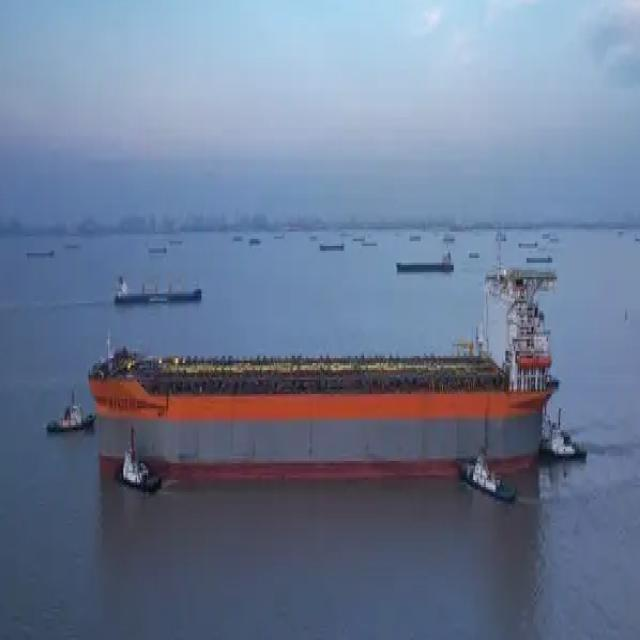cargoship: (90, 254, 551, 496), (105, 265, 206, 314), (394, 254, 459, 276)
fishing boat: (450, 426, 516, 504), (538, 393, 586, 462), (44, 389, 95, 448)
houseboat: (104, 413, 162, 486)
